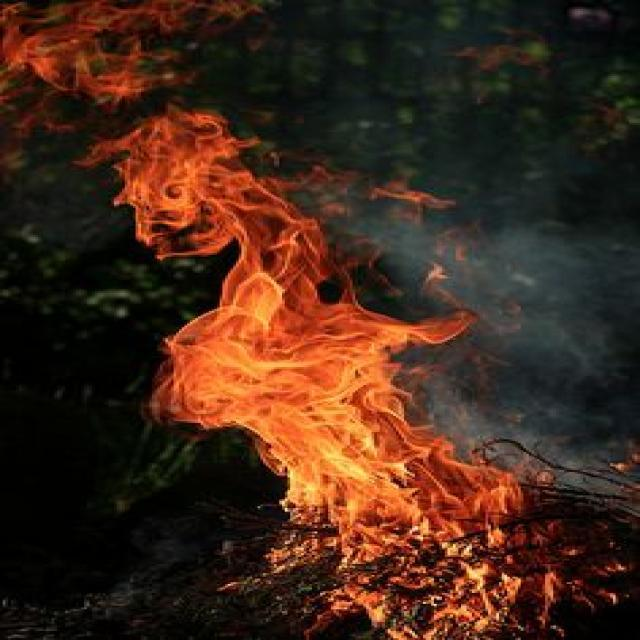Fire: (167, 282, 540, 640), (11, 5, 331, 277)
